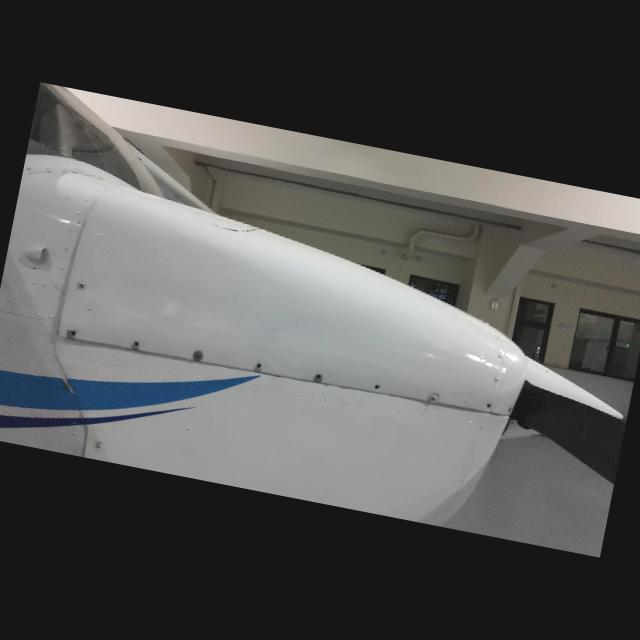Missing Fastener: (311, 368, 330, 384), (252, 360, 268, 375), (130, 338, 144, 351), (370, 382, 384, 394), (66, 329, 80, 339), (484, 401, 494, 411)
